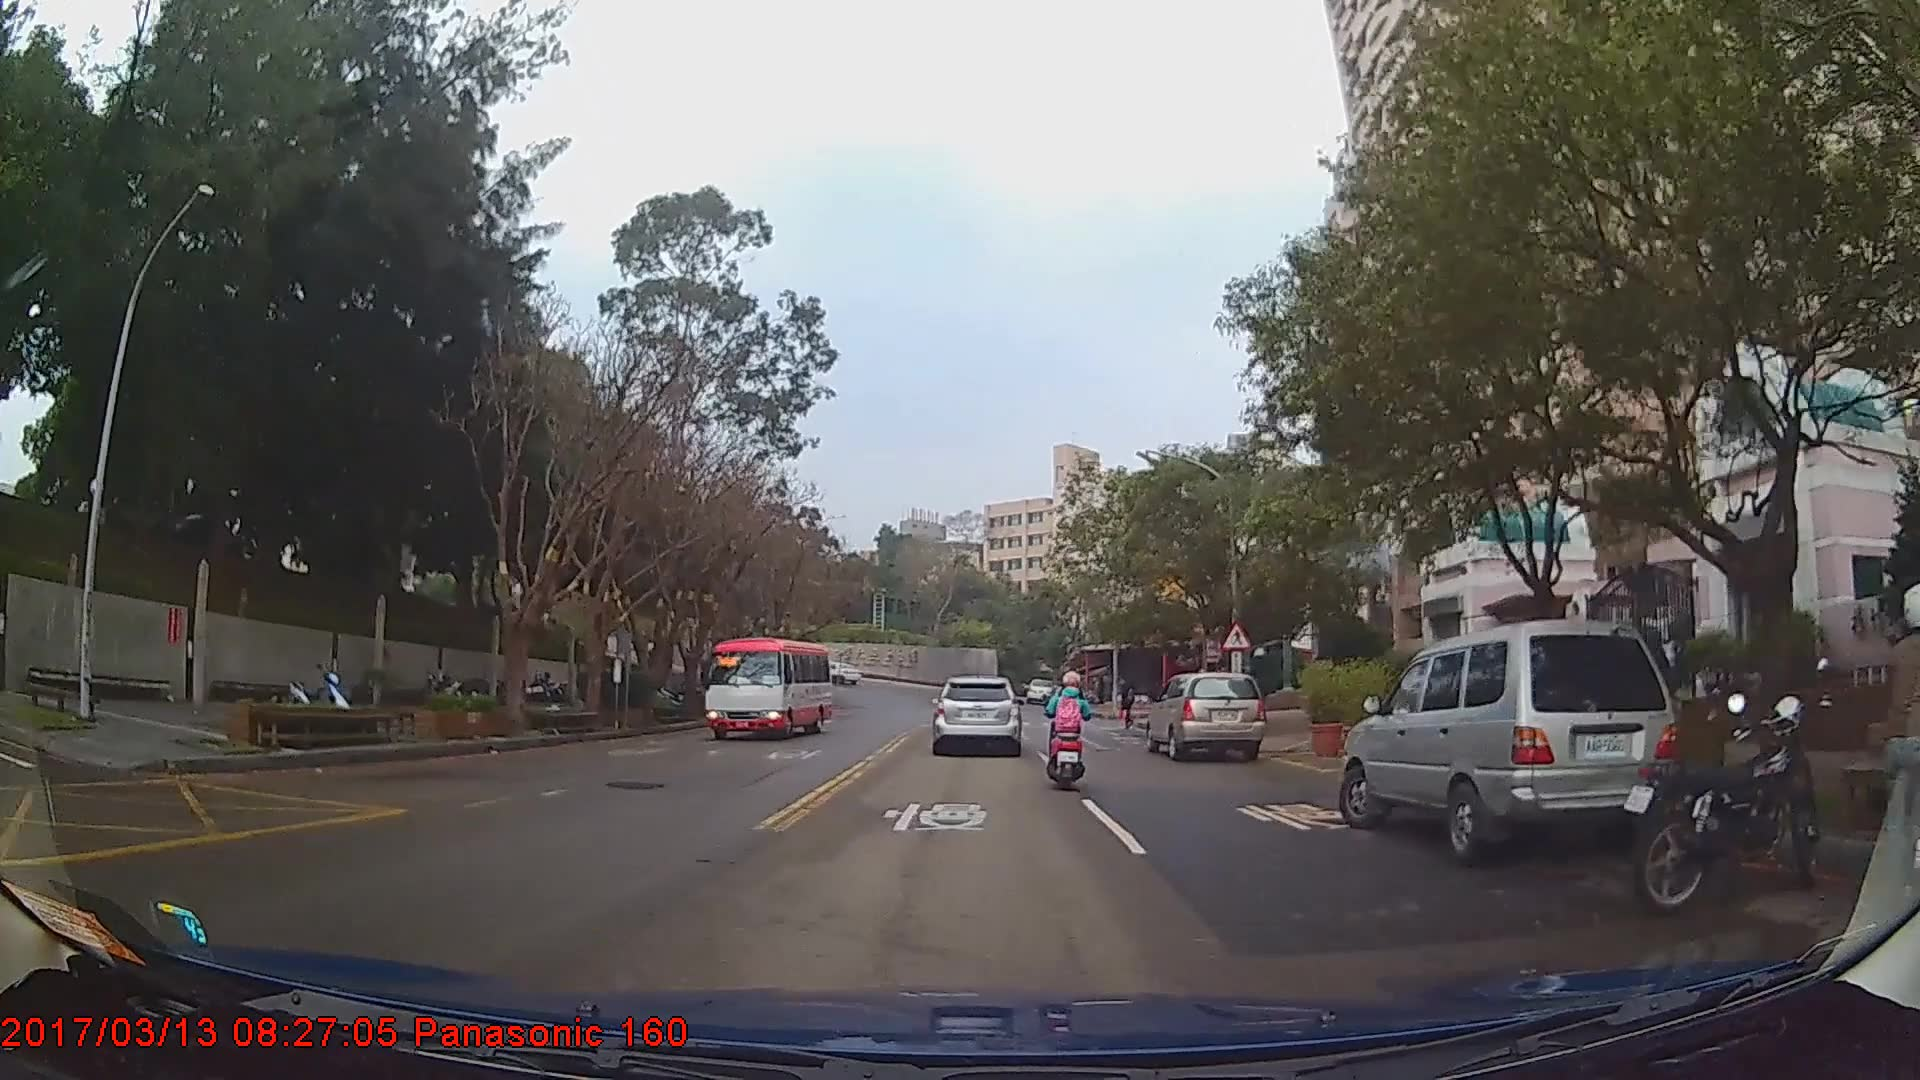pedestrian: (1115, 674, 1139, 734)
rider: (1041, 666, 1095, 796)
vehicle: (1339, 615, 1679, 866), (703, 634, 832, 739), (1145, 670, 1263, 762), (929, 674, 1022, 756), (817, 659, 860, 686), (1025, 678, 1056, 704)
